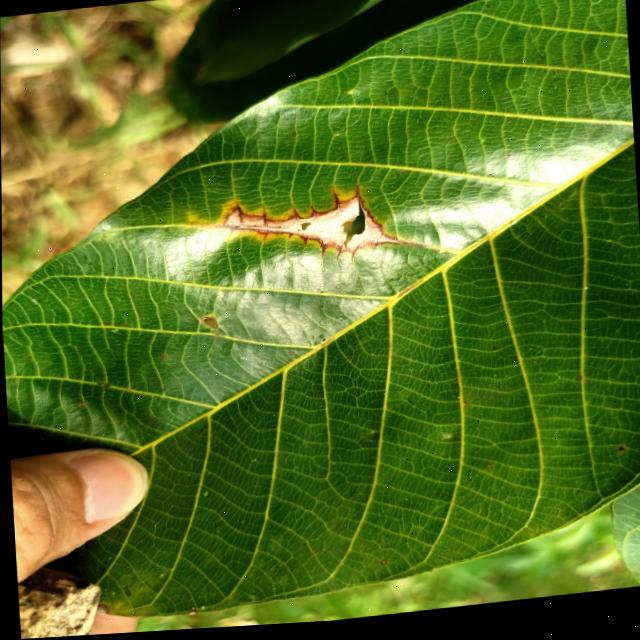Colletotrichum: (617, 453, 623, 457)
Corynespora: (221, 182, 421, 274)
